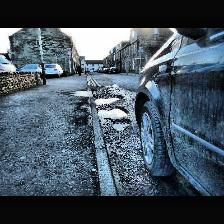pothole: (97, 106, 127, 118), (94, 94, 124, 106), (111, 119, 131, 131)
